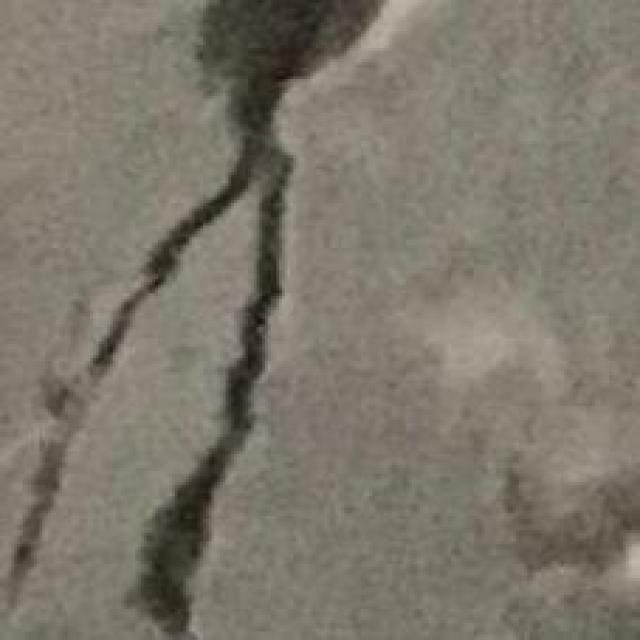Crack: (3, 0, 386, 640)
